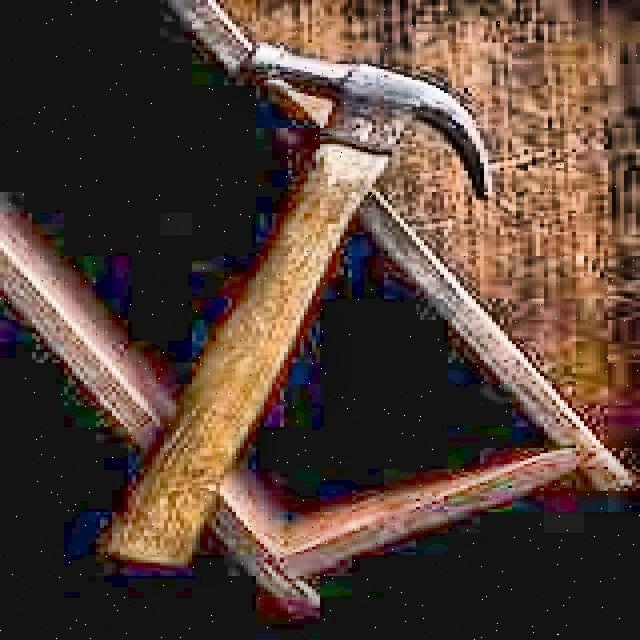hammer: (110, 38, 501, 578)
